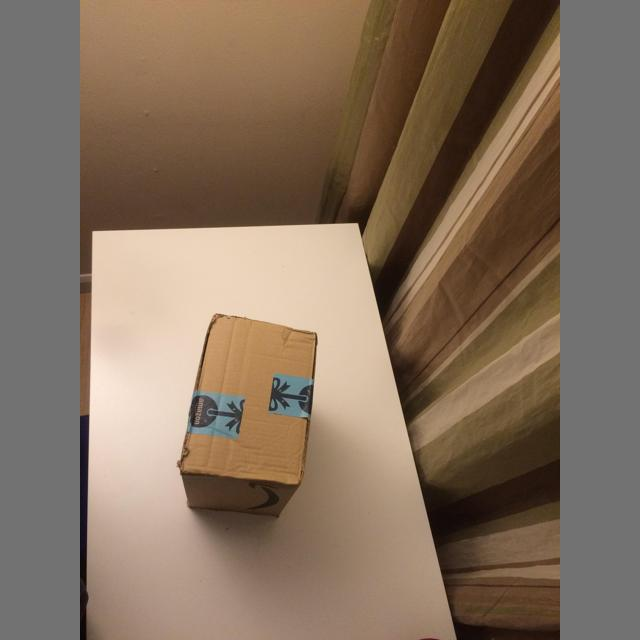litter: (177, 314, 318, 517)
